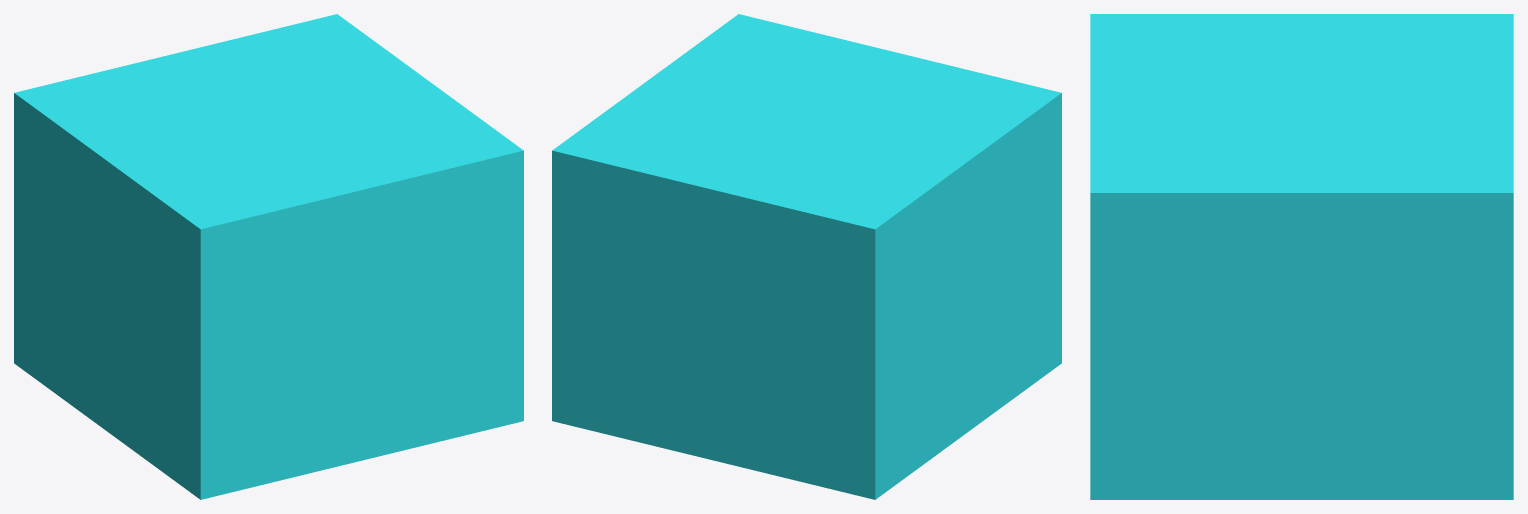
File: WaterBlockFilled_8.fbx
3 renders of one model, left to right at view 1: azimuth 30°, elevation 25°; view 2: azimuth 150°, elevation 25°; view 3: azimuth 270°, elevation 25°, orthographic. The views are drawn at different scales.
Parts seen in each view (by area): view 1: WaterBlockFilled_8; view 2: WaterBlockFilled_8; view 3: WaterBlockFilled_8.
Part boxes in pixels (box(x1,y1,x2,y2)): WaterBlockFilled_8: box(14, 14, 523, 499); WaterBlockFilled_8: box(552, 14, 1061, 499); WaterBlockFilled_8: box(1090, 14, 1513, 499).
Bounding box in the file's own units: 1 × 0.8 × 1.
1 material, 1 textured.
